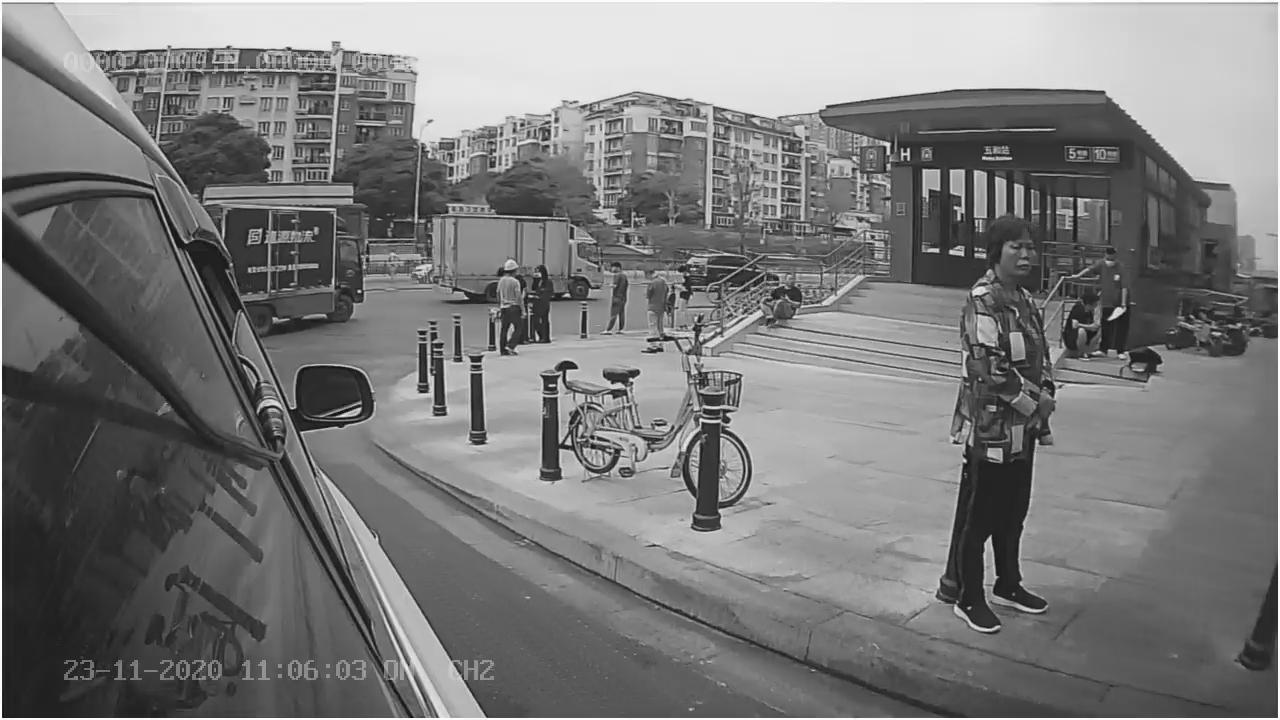person: (934, 210, 1067, 642)
